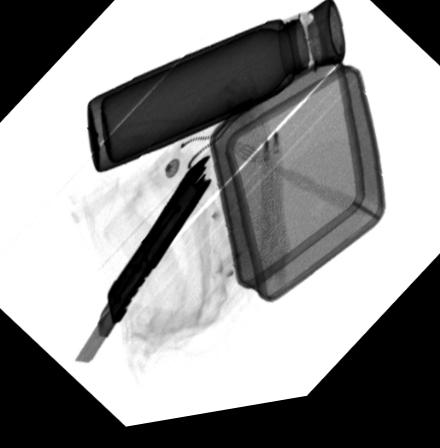Knife: (72, 159, 213, 366)
